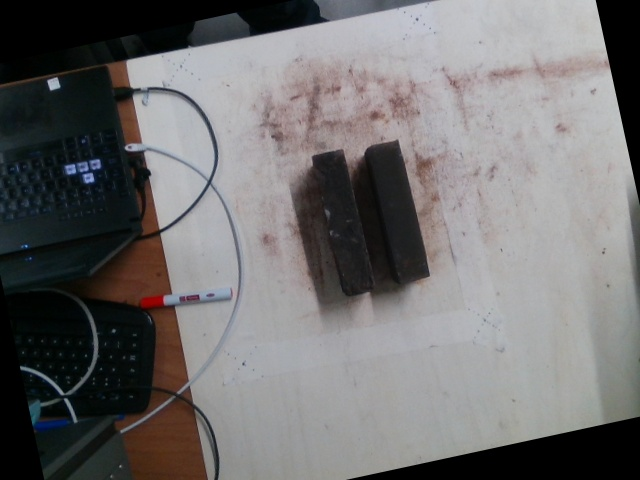brick-side: (311, 150, 375, 297), (366, 141, 431, 283)
